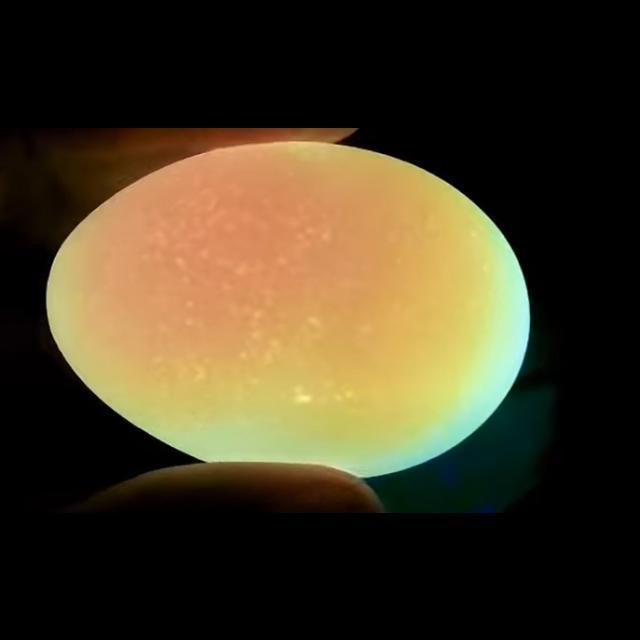A - Good: (31, 137, 544, 464)
